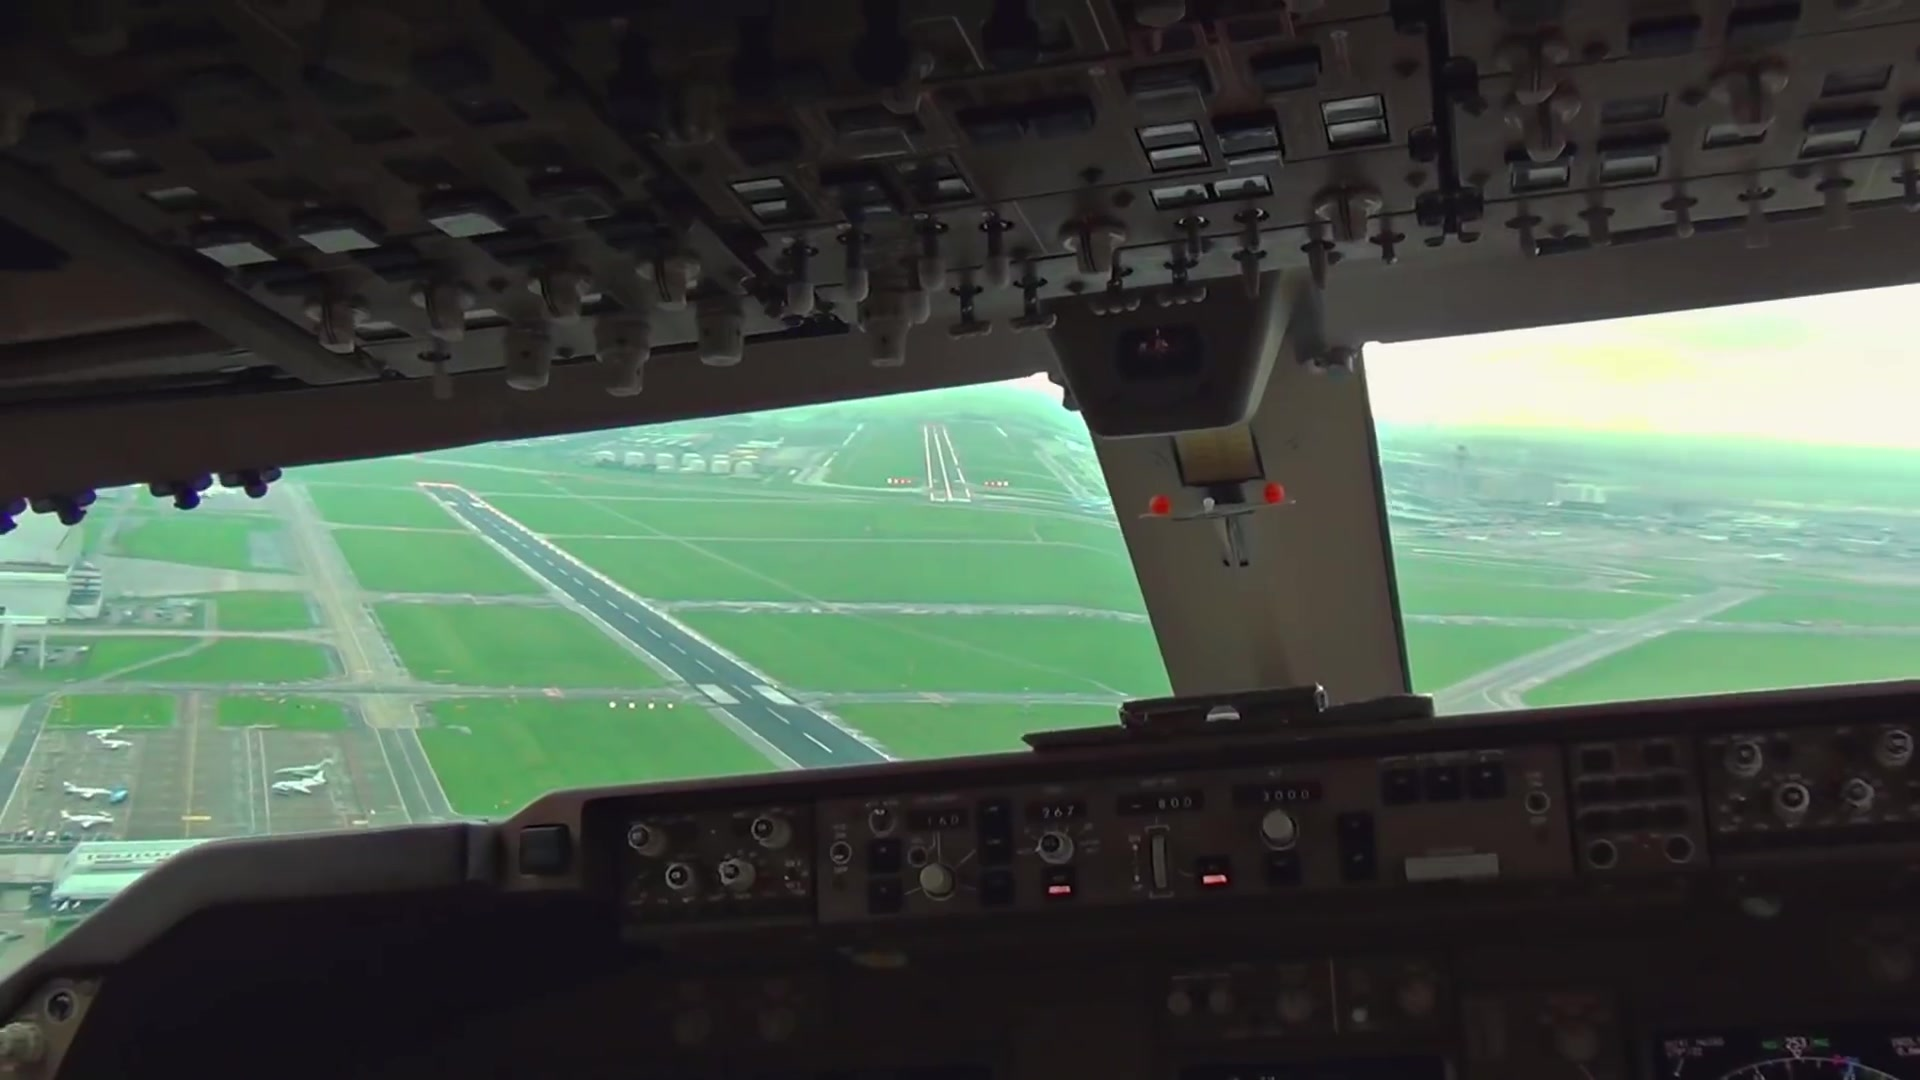runway: (916, 425, 973, 506)
